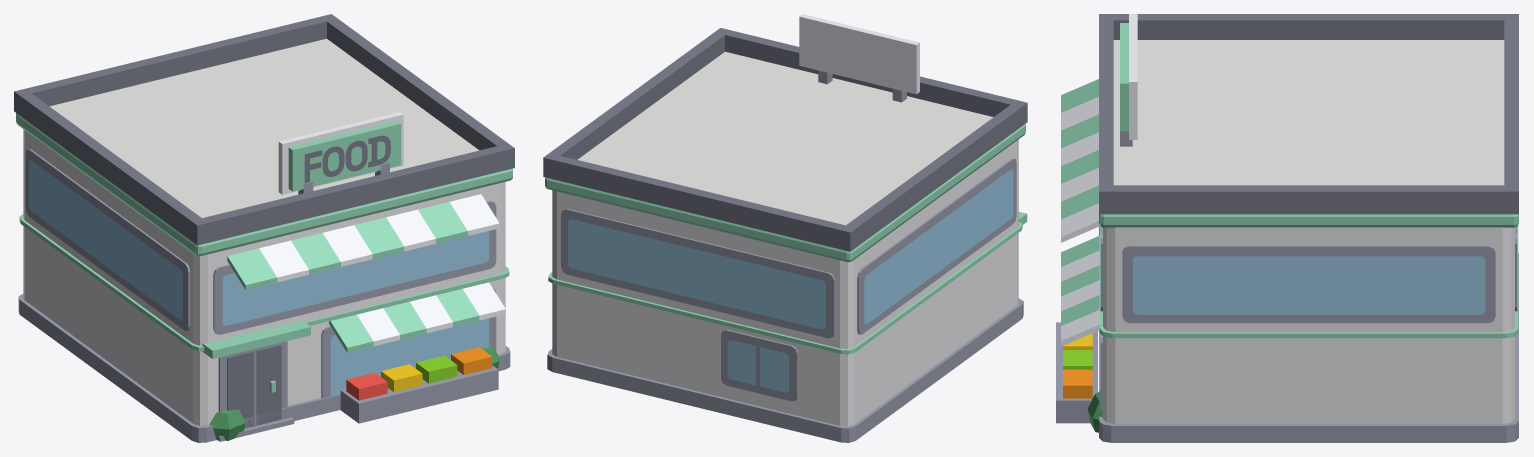
File: shop-food-1x1-t2-tone-a.glb
The picture shows the model from 3 angles, left to right: view 1: azimuth 30°, elevation 25°; view 2: azimuth 150°, elevation 25°; view 3: azimuth 270°, elevation 25°; orthographic projection. The views are drawn at different scales.
Visible parts, largest first — view 1: shop-food-1x1-t2-tone-a; view 2: shop-food-1x1-t2-tone-a; view 3: shop-food-1x1-t2-tone-a.
Boxes of the visible parts, bbox=[...] form: shop-food-1x1-t2-tone-a: bbox=[14, 14, 514, 442]; shop-food-1x1-t2-tone-a: bbox=[543, 14, 1027, 442]; shop-food-1x1-t2-tone-a: bbox=[1056, 14, 1518, 442].
Size of the model in its own units: 1 by 0.804 by 1.1.
1 material, 1 textured.
